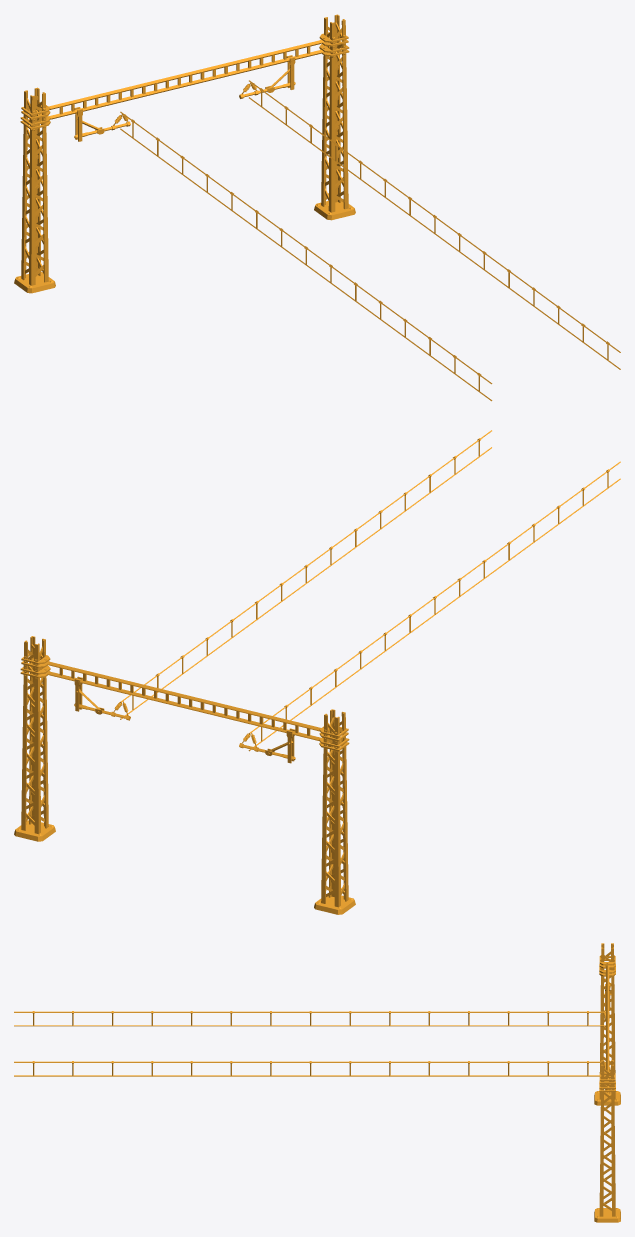
Rendered from SM_Train_Wiring_Double.fbx.
The picture shows the model from 3 angles, top to bottom: view 1: azimuth 30°, elevation 25°; view 2: azimuth 150°, elevation 25°; view 3: azimuth 270°, elevation 25°; orthographic projection. The views are drawn at different scales.
Visible parts, largest first — view 1: SM_Train_Wiring_Double; view 2: SM_Train_Wiring_Double; view 3: SM_Train_Wiring_Double.
Part boxes in pixels (x1,y1,x2,y2): SM_Train_Wiring_Double: (14,14,620,401); SM_Train_Wiring_Double: (14,430,620,914); SM_Train_Wiring_Double: (14,943,620,1222).
Bounding box in the file's own units: 15.34 × 8.58 × 30.67.
